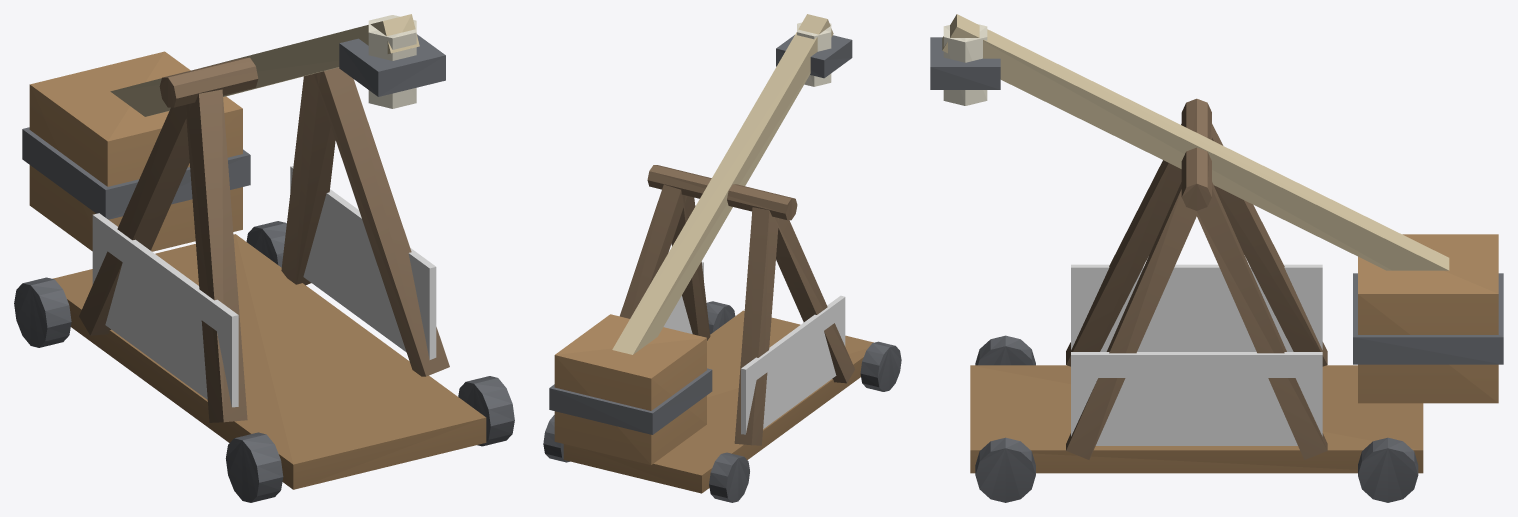
The model's file is Trebuchet.glb.
3 views of the same model, side by side, from view 1: azimuth 30°, elevation 25°; view 2: azimuth 150°, elevation 25°; view 3: azimuth 270°, elevation 25° (orthographic). The views are drawn at different scales.
Visible parts, largest first — view 1: Body; view 2: Body; view 3: Body.
Boxes of the visible parts, x1,y1,x2,y2 form: Body: (14,14,514,502); Body: (543,14,901,502); Body: (930,14,1503,502).
Bounding box in the file's own units: 0.53 × 0.9348 × 1.14.
